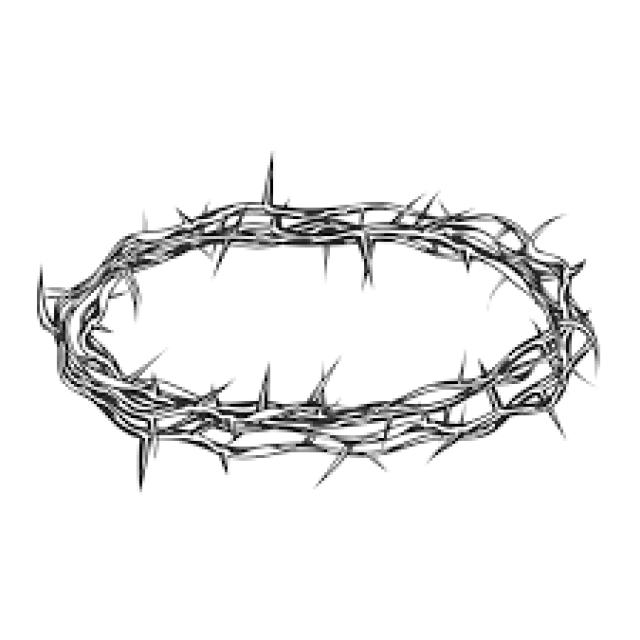crown: (31, 147, 617, 511)
